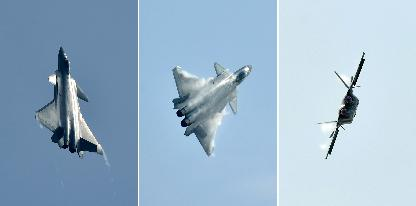F4: (34, 45, 102, 157), (172, 61, 252, 155), (316, 51, 364, 157)
